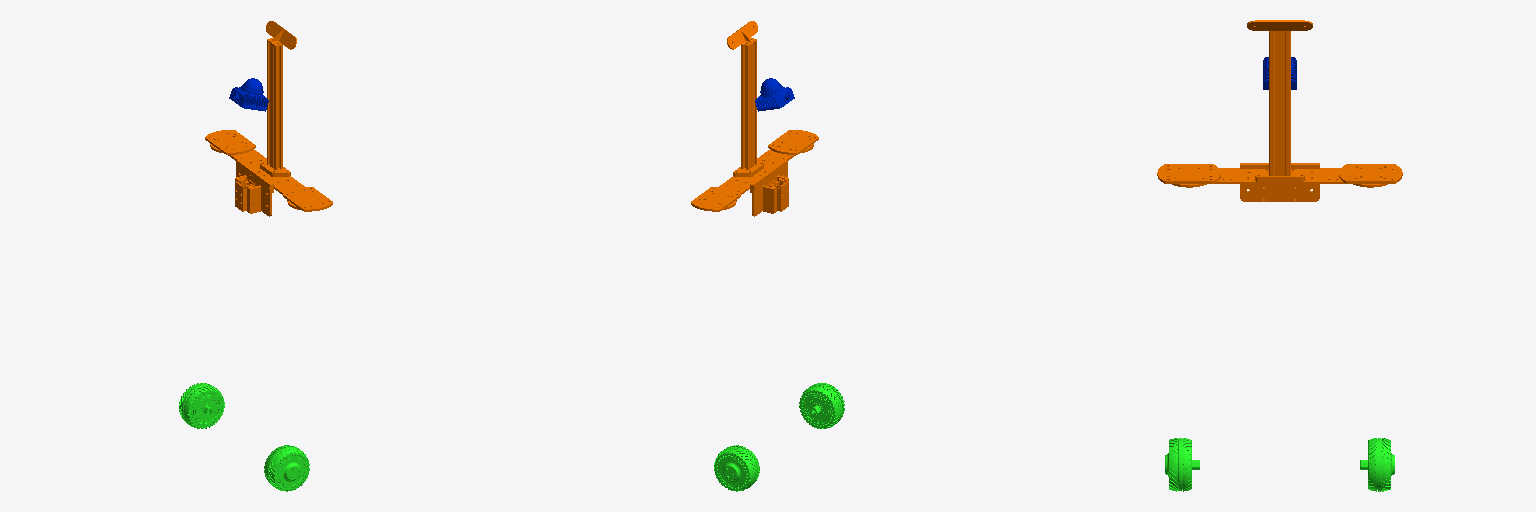
The robot description file, URDF, robot "robot_display":
<?xml version="1.0" encoding="utf-8"?>
<robot name="robot_display">
  <link name="body"/>

  <joint name="body_to_base_footprint_joint" type="fixed">
    <parent link="body" />
    <child link="base_footprint" />
    <origin xyz="-0.0194585 -0.0233408 -0.8560610" rpy="0 0 0" />
  </joint>

  <link name="base_footprint"/>
  
  <link name="base_link">
    <inertial>
      <origin xyz="-0.0098325143429585 -5.2540282666803E-05 0.392384583771952" rpy="0 0 0" />
      <mass value="1.52093247375048" />
      <inertia
        ixx="0.0176542350747674"
        ixy="-3.064862511353E-08"
        ixz="2.89095999810399E-05"
        iyy="0.0170775483739283"
        iyz="-6.04177568974473E-08"
        izz="0.00135407024623668" />
    </inertial>
    <visual>
      <origin xyz="0 0 0" rpy="0 0 0" />
      <geometry>
        <mesh filename="package://robot_display/meshes/base_link.STL" />
      </geometry>
      <material name="">
        <color rgba="1.0 1.0 1.0 1" />
      </material>
    </visual>
    <collision>
      <origin xyz="0 0 0" rpy="0 0 0" />
      <geometry>
        <mesh filename="package://robot_display/meshes/base_link.STL" />
      </geometry>
    </collision>
  </link>

  <joint name="base_footprint_joint" type="fixed">
    <parent link="base_footprint"/>
    <child link="base_link"/>
    <origin xyz="0 0 0.0105" rpy="0 0 0"/>
  </joint>

  <link name="whell_left_link">
    <inertial>
      <origin xyz="-7.85437210621548E-07 0.00048137342557214 1.11756020021447E-06" rpy="0 0 0" />
      <mass value="0.315479735385035" />
      <inertia
        ixx="0.000221117820208823"
        ixy="3.5833843868722E-10"
        ixz="-6.72123977051372E-09"
        iyy="0.000357084383299597"
        iyz="1.4251993170265E-08"
        izz="0.000221134649609164" />
    </inertial>
    <visual>
      <origin xyz="0 0 0" rpy="0 0 0" />
      <geometry>
        <mesh filename="package://robot_display/meshes/whell_left_link.STL" />
      </geometry>
      <material name="">
        <color rgba="0.2 1 0.2 1" />
      </material>
    </visual>
    <collision>
      <origin xyz="0 0 0" rpy="0 0 0" />
      <geometry>
        <mesh filename="package://robot_display/meshes/whell_left_link.STL" />
      </geometry>
    </collision>
  </link>

  <joint name="whell_left_joint" type="continuous">
    <origin xyz="0 0.188 0.04" rpy="0 0 0" />
    <parent link="base_link" />
    <child link="whell_left_link" />
    <axis xyz="0 1 0" />
  </joint>

  <link name="wheel_right_link">
    <inertial>
      <origin xyz="7.85441963985917E-07 -0.000481373418943581 1.11756507803484E-06" rpy="0 0 0" />
      <mass value="0.315479735504946" />
      <inertia
        ixx="0.000221117820259764"
        ixy="3.58314078627961E-10"
        ixz="6.72121924957937E-09"
        iyy="0.000357084383339721"
        iyz="-1.42520181537281E-08"
        izz="0.000221134649658052" />
    </inertial>
    <visual>
      <origin xyz="0 0 0" rpy="0 0 0" />
      <geometry>
        <mesh filename="package://robot_display/meshes/wheel_right_link.STL" />
      </geometry>
      <material name="">
        <color rgba="0.2 1 0.2 1" />
      </material>
    </visual>
    <collision>
      <origin xyz="0 0 0" rpy="0 0 0" />
      <geometry>
        <mesh filename="package://robot_display/meshes/wheel_right_link.STL" />
      </geometry>
    </collision>
  </link>

  <joint name="wheel_right_joint" type="continuous">
    <origin xyz="0 -0.188 0.04" rpy="0 0 0" />
    <parent link="base_link" />
    <child link="wheel_right_link" />
    <axis xyz="0 1 0" />
  </joint>

  <link name="screw_link">
    <inertial>
      <origin xyz="-0.00769620815871298 3.50362013748799E-06 0.0288829961541191" rpy="0 0 0" />
      <mass value="0.477619946924312" />
      <inertia
        ixx="0.00325280225415715"
        ixy="3.30969826037761E-09"
        ixz="-2.28880534043066E-06"
        iyy="0.000831911086109197"
        iyz="-3.29348610207974E-09"
        izz="0.00264549391304978" />
    </inertial>
    <visual>
      <origin xyz="0 0 0" rpy="0 0 0" />
      <geometry>
        <mesh filename="package://robot_display/meshes/screw_link.STL" />
      </geometry>
      <material name="">
        <color rgba="1 0.5 0 1" />
      </material>
    </visual>
    <collision>
      <origin xyz="0 0 0" rpy="0 0 0" />
      <geometry>
        <mesh filename="package://robot_display/meshes/screw_link.STL" />
      </geometry>
    </collision>
  </link>

  <joint name="screw_joint" type="prismatic">
    <origin xyz="0.0616483321125747 5.00000000000496E-05 0.671" rpy="0 0 0" />
    <parent link="base_link" />
    <child link="screw_link" />
    <axis xyz="0 0 -1" />
    <limit lower="-0.2" upper="0" effort="100" velocity="0.1" />
  </joint>

  <link name="camera_poo_link">
    <inertial>
      <origin xyz="0.0141559028046791 -0.0470107561831965 -0.000119325004315163" rpy="0 0 0" />
      <mass value="0.0326390241085313" />
      <inertia
        ixx="4.07693585659203E-05"
        ixy="2.08779440174718E-07"
        ixz="-8.11014549496065E-08"
        iyy="4.42525295935665E-06"
        iyz="2.25017432153555E-07"
        izz="4.01659365922531E-05" />
    </inertial>
    <visual>
      <origin xyz="0 0 0" rpy="0 0 0" />
      <geometry>
        <mesh filename="package://robot_display/meshes/camera_link.STL" />
      </geometry>
      <material name="">
        <color rgba="1 1 0 1" />
      </material>
    </visual>
    <collision>
      <origin xyz="0 0 0" rpy="0 0 0" />
      <geometry>
        <mesh filename="package://robot_display/meshes/camera_link.STL" />
      </geometry>
    </collision>
  </link>

  <joint name="camera_joint" type="fixed">
    <origin xyz="0.0336516678874285 0.0474500000000005 0.324490381056767" rpy="0 0.5235987755983 0" />
    <parent link="screw_link" />
    <child link="camera_poo_link" />
  </joint>

  <link name="camera_link"/>

  <joint name="camera_poo_to_camera_joint" type="fixed">
    <parent link="camera_poo_link" />
    <child link="camera_link" />
    <origin xyz="0.02292 0 0" rpy="0 0 0" />
  </joint>

  <link name="livox_poo_link">
    <inertial>
      <origin xyz="-0.0011535215104774 -1.68497683204461E-05 0.0041860206540324" rpy="0 0 0" />
      <mass value="0.0525930263369941" />
      <inertia
        ixx="1.13650314609516E-05"
        ixy="-5.6844398475156E-09"
        ixz="5.26601377270881E-10"
        iyy="1.13966414073652E-05"
        iyz="-6.4096263936136E-10"
        izz="1.91792981689664E-05" />
    </inertial>
    <visual>
      <origin xyz="0 0 0" rpy="0 0 0" />
      <geometry>
        <mesh filename="package://robot_display/meshes/livox_link.STL" />
      </geometry>
      <material name="">
        <color rgba="0 0.2 0.8 1" />
      </material>
    </visual>
    <collision>
      <origin xyz="0 0 0" rpy="0 0 0" />
      <geometry>
        <mesh filename="package://robot_display/meshes/livox_link.STL" />
      </geometry>
    </collision>
  </link>

  <joint name="livox_joint" type="fixed">
    <origin xyz="0.0170020182229269 5.3506078218414E-05 0.87097369906952" rpy="0 0.349065850398866 0.000160221167896802" />
    <parent link="base_link" />
    <child link="livox_poo_link" />
  </joint>

  <link name="livox_frame"/>
  <joint name="livox_poo_to_livox_joint" type="fixed">
    <parent link="livox_poo_link" />
    <child link="livox_frame" />
    <origin xyz="0 0 0.02108" rpy="0 0 0" />
  </joint>
  <link name="imu_link"/>
  <joint name="livox_frame_to_livox_body_joint" type="fixed">
    <parent link="livox_frame" />
    <child link="imu_link" />
    <origin xyz="0.011 0.02329 -0.04412" rpy="0 0 0" />
  </joint>
</robot>

--- Facts derived from the render (not from the file) ---
3 views of the same robot in one strip: view 1: azimuth 30°, elevation 25°; view 2: azimuth 150°, elevation 25°; view 3: azimuth 270°, elevation 25° (orthographic).
Robot: robot_display — 11 links, 10 joints (2 continuous, 1 prismatic, 7 fixed); root link body; default pose: every joint at zero.
Visible links, largest first — view 1: screw_link, wheel_right_link, whell_left_link, livox_poo_link; view 2: screw_link, whell_left_link, wheel_right_link, livox_poo_link; view 3: screw_link, whell_left_link, wheel_right_link.
Link boxes in pixels (x1,y1,x2,y2): screw_link: (205,21,332,216); wheel_right_link: (264,445,309,491); whell_left_link: (179,383,224,428); livox_poo_link: (229,78,268,111); screw_link: (691,21,818,216); whell_left_link: (714,445,759,491); wheel_right_link: (799,383,844,428); livox_poo_link: (755,78,794,111); screw_link: (1157,20,1402,201); whell_left_link: (1360,438,1394,491); wheel_right_link: (1165,438,1199,491).
Bounding box of the posed robot: 0.1581 × 0.4617 × 1.02 m (x, y, z).
4 mesh visuals loaded from 6 distinct referenced files (4 binary STL); not drawn: 2 (reference not matched to a file when rendering).
